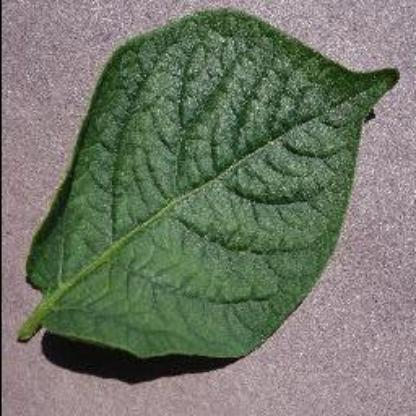Healthy-plant: (19, 6, 401, 370)
